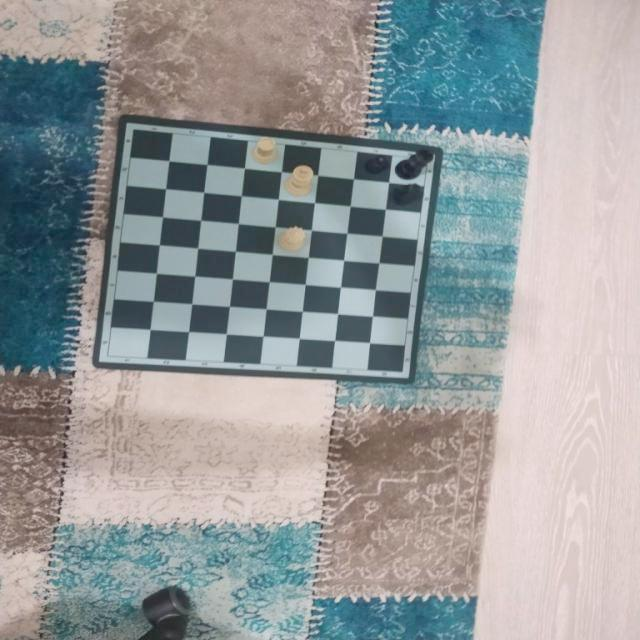chess-table-corners: (114, 118, 153, 142), (416, 149, 440, 169), (96, 347, 120, 365), (392, 362, 412, 380)
